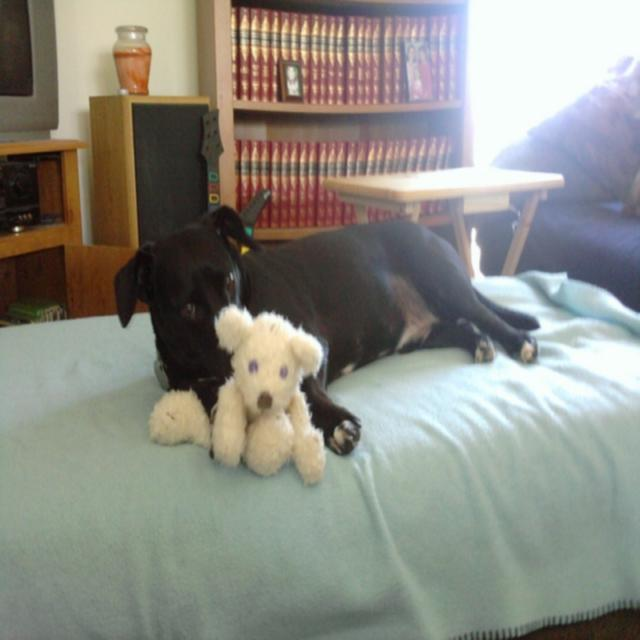dog: (113, 203, 539, 461)
